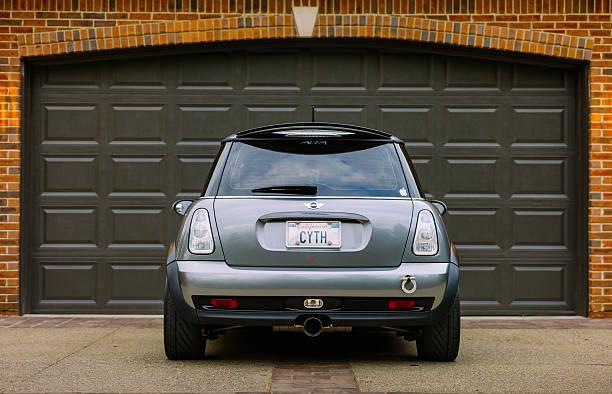mini: (296, 194, 328, 216)
